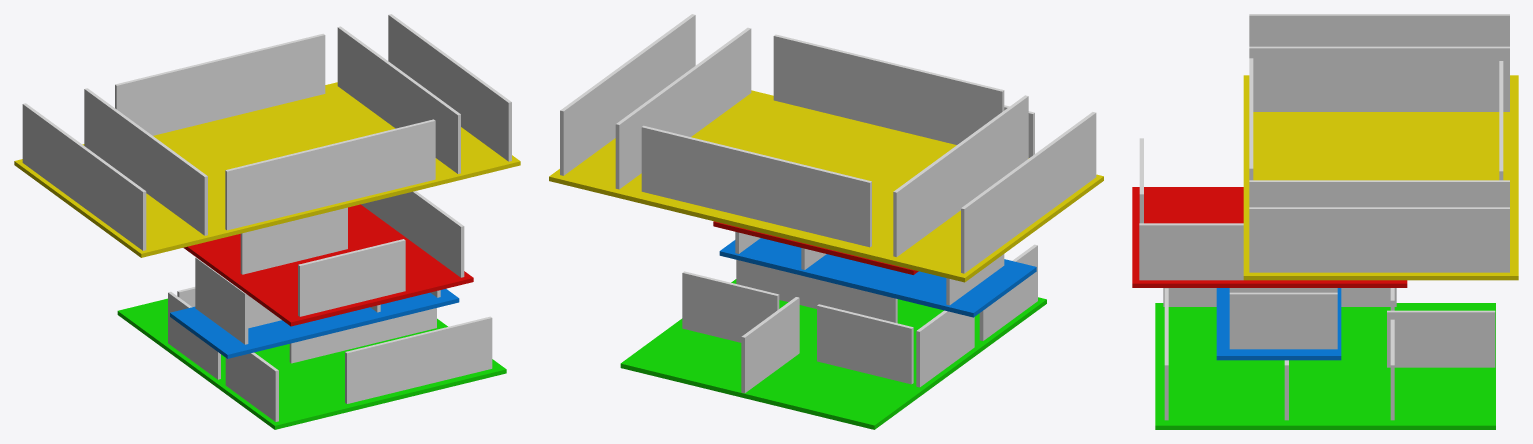
The model's file is building.glb.
3 renders of one model, left to right at view 1: azimuth 30°, elevation 25°; view 2: azimuth 150°, elevation 25°; view 3: azimuth 270°, elevation 25°, orthographic. The views are drawn at different scales.
Parts seen in each view (by area): view 1: SM_Floor_04, SM_Wall_21, SM_Wall_20, SM_Floor_01, SM_Floor_03, SM_Wall_01, SM_Wall_17, SM_Wall_18, SM_Wall_19, SM_Wall_16, SM_Wall_12, SM_Floor_02 (+7 smaller); view 2: SM_Floor_04, SM_Floor_01, SM_Wall_20, SM_Wall_21, SM_Wall_17, SM_Wall_18, SM_Wall_16, SM_Wall_19, SM_Floor_02, SM_Wall_04, SM_Wall_03, SM_Wall_02 (+5 smaller); view 3: SM_Floor_01, SM_Floor_04, SM_Wall_16, SM_Wall_18, SM_Wall_17, SM_Wall_19, SM_Floor_03, SM_Wall_09, SM_Wall_05, SM_Wall_15, SM_Floor_02, SM_Wall_07 (+7 smaller).
Boxes of the visible parts, box(x1,y1,x2,y2) form: SM_Floor_04: box(14, 82, 520, 257); SM_Wall_21: box(225, 119, 435, 230); SM_Wall_20: box(115, 33, 325, 135); SM_Floor_01: box(117, 298, 506, 429); SM_Floor_03: box(183, 204, 473, 326); SM_Wall_01: box(345, 316, 492, 403); SM_Wall_17: box(22, 103, 146, 250); SM_Wall_18: box(84, 88, 207, 235); SM_Wall_19: box(337, 26, 460, 173); SM_Wall_16: box(388, 14, 511, 161); SM_Wall_12: box(298, 239, 405, 316); SM_Floor_02: box(170, 289, 459, 358); SM_Floor_04: box(549, 90, 1103, 282); SM_Floor_01: box(620, 279, 1046, 429); SM_Wall_20: box(641, 125, 871, 247); SM_Wall_21: box(773, 34, 1004, 144); SM_Wall_17: box(961, 112, 1096, 273); SM_Wall_18: box(893, 95, 1028, 257); SM_Wall_16: box(560, 14, 695, 175); SM_Wall_19: box(615, 27, 751, 189); SM_Floor_02: box(719, 238, 1036, 317); SM_Wall_04: box(817, 304, 913, 384); SM_Wall_03: box(682, 271, 779, 342); SM_Wall_02: box(736, 260, 897, 323); SM_Floor_01: box(1155, 303, 1495, 429); SM_Floor_04: box(1243, 75, 1518, 280); SM_Wall_16: box(1249, 207, 1509, 272); SM_Wall_18: box(1249, 46, 1509, 111); SM_Wall_17: box(1249, 14, 1509, 46); SM_Wall_19: box(1249, 180, 1509, 207); SM_Floor_03: box(1132, 187, 1407, 287); SM_Wall_09: box(1229, 292, 1337, 349); SM_Wall_05: box(1387, 310, 1495, 367); SM_Wall_15: box(1139, 223, 1243, 280); SM_Floor_02: box(1216, 288, 1341, 360); SM_Wall_07: box(1341, 288, 1396, 306).
Bounding box in the file's own units: 14.46 × 8.29 × 11.76.
